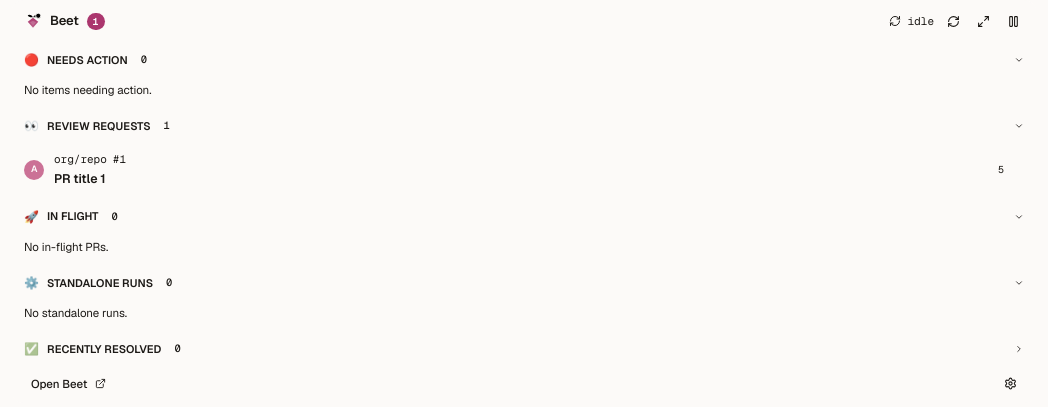
it: TrayPopover › section collapse toggles visibility
Expected: the text "PR title 1" is shown, [54,170,106,187]
# Collapse the section
Click the text "Review Requests" at (99, 126), box [47,118,150,134]
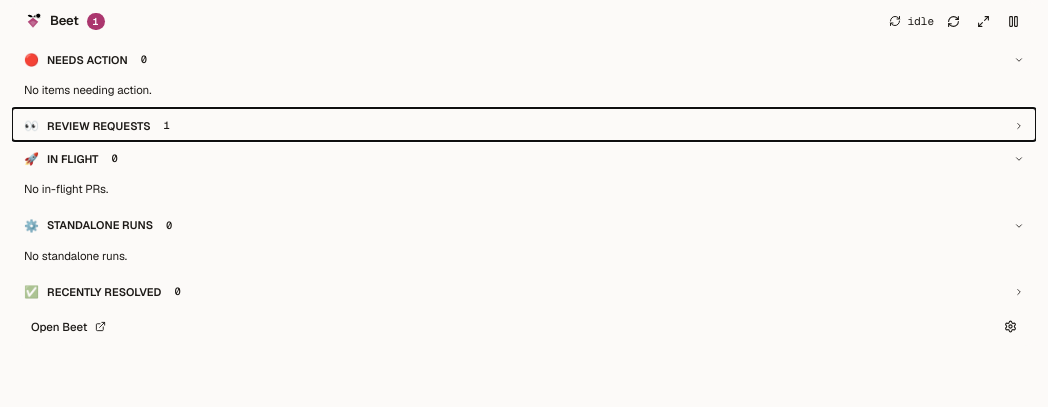
Now the button "PR title 1" is gone
# Expand again
Click the text "Review Requests" at (99, 126), box [47,118,150,134]
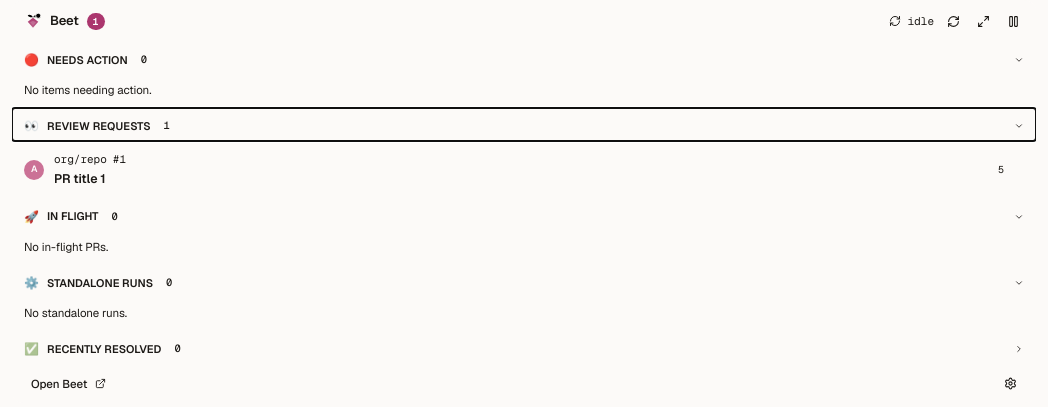
Now the text "PR title 1" is shown, box [54,170,106,187]
